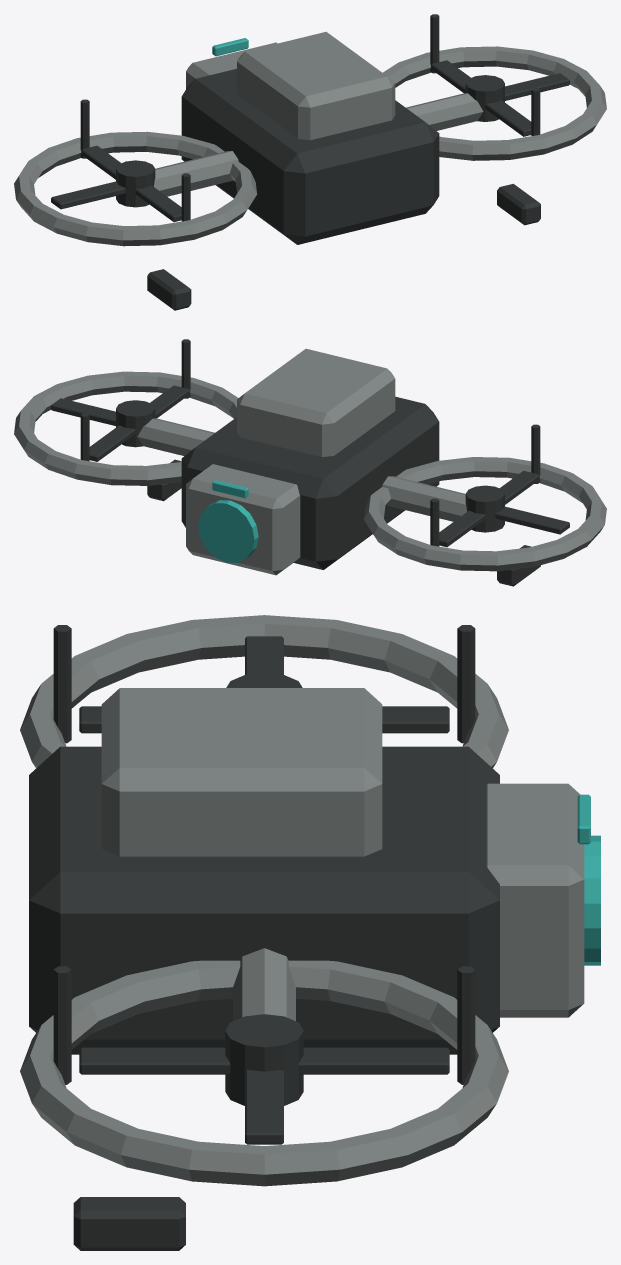
File: flying_scout.glb
3 renders of one model, top to bottom at view 1: azimuth 30°, elevation 25°; view 2: azimuth 150°, elevation 25°; view 3: azimuth 270°, elevation 25°, orthographic. The views are drawn at different scales.
Visible parts, largest first — view 1: Chassis, left_rotor_mesh, right_rotor_mesh, SensorMesh; view 2: Chassis, SensorMesh, left_rotor_mesh, right_rotor_mesh; view 3: Chassis, SensorMesh, right_rotor_mesh, left_rotor_mesh.
Boxes of the visible parts, x1=… form: Chassis: x1=14, y1=14, x2=606, y2=310; left_rotor_mesh: x1=51, y1=145, x2=181, y2=221; right_rotor_mesh: x1=431, y1=60, x2=569, y2=136; SensorMesh: x1=186, y1=38, x2=277, y2=88; Chassis: x1=14, y1=339, x2=606, y2=586; SensorMesh: x1=186, y1=464, x2=300, y2=575; left_rotor_mesh: x1=439, y1=470, x2=569, y2=547; right_rotor_mesh: x1=51, y1=385, x2=189, y2=461; Chassis: x1=20, y1=615, x2=508, y2=1250; SensorMesh: x1=486, y1=783, x2=600, y2=1017; right_rotor_mesh: x1=79, y1=1014, x2=449, y2=1144; left_rotor_mesh: x1=79, y1=636, x2=449, y2=733.
Size of the model in its own units: 1.16 by 0.34 by 0.518.
